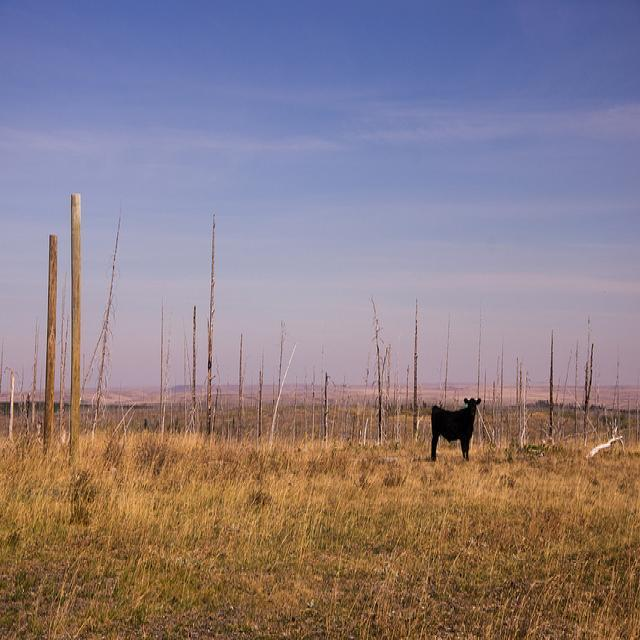cow: (429, 396, 480, 461)
